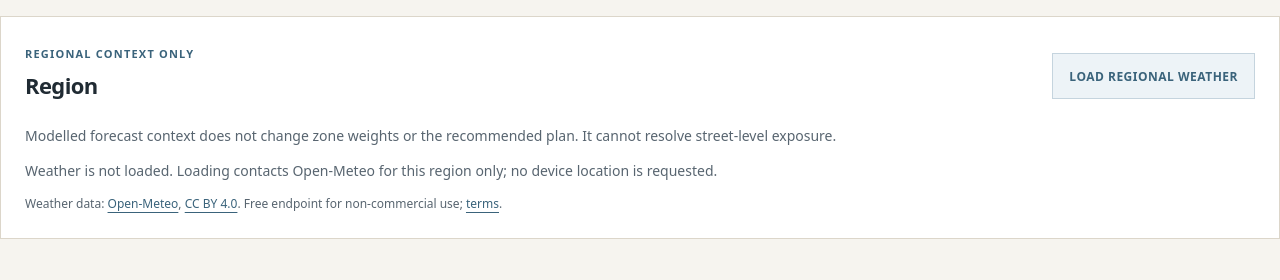
Test case: loads weather only on request and explains failure
Click the button "Load regional weather" at (1154, 76), box [1052,53,1255,99]
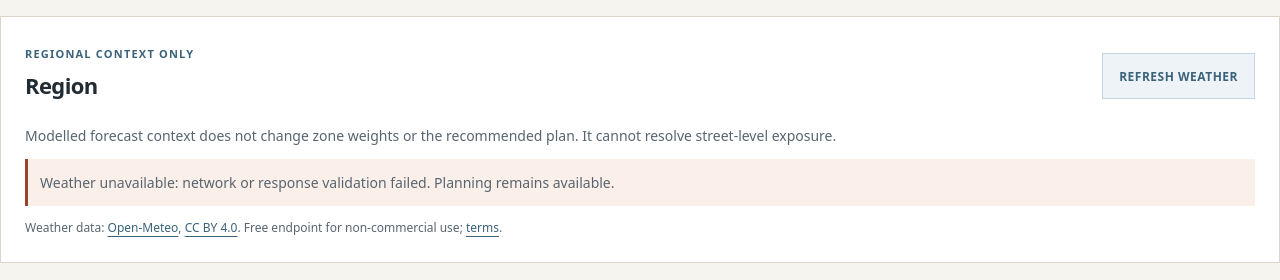
Now the message shows "Planning remains available", box [430,173,614,192]
